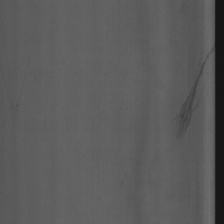water_spot: (169, 35, 215, 155)
